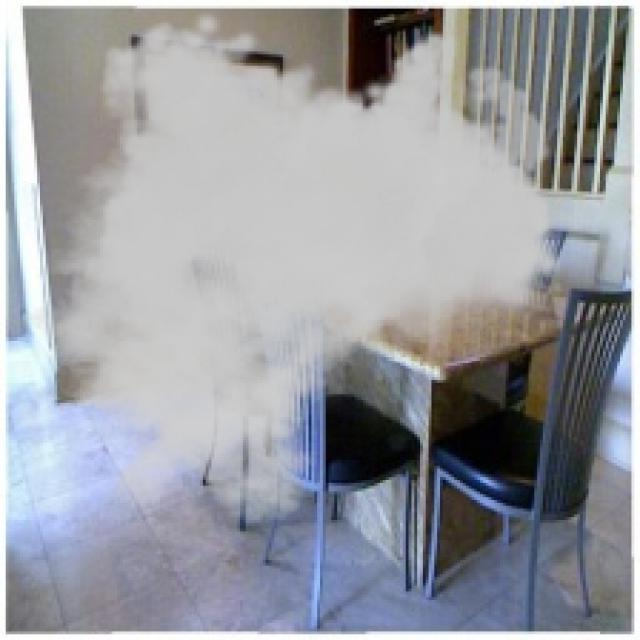smoke: (3, 8, 566, 526)
